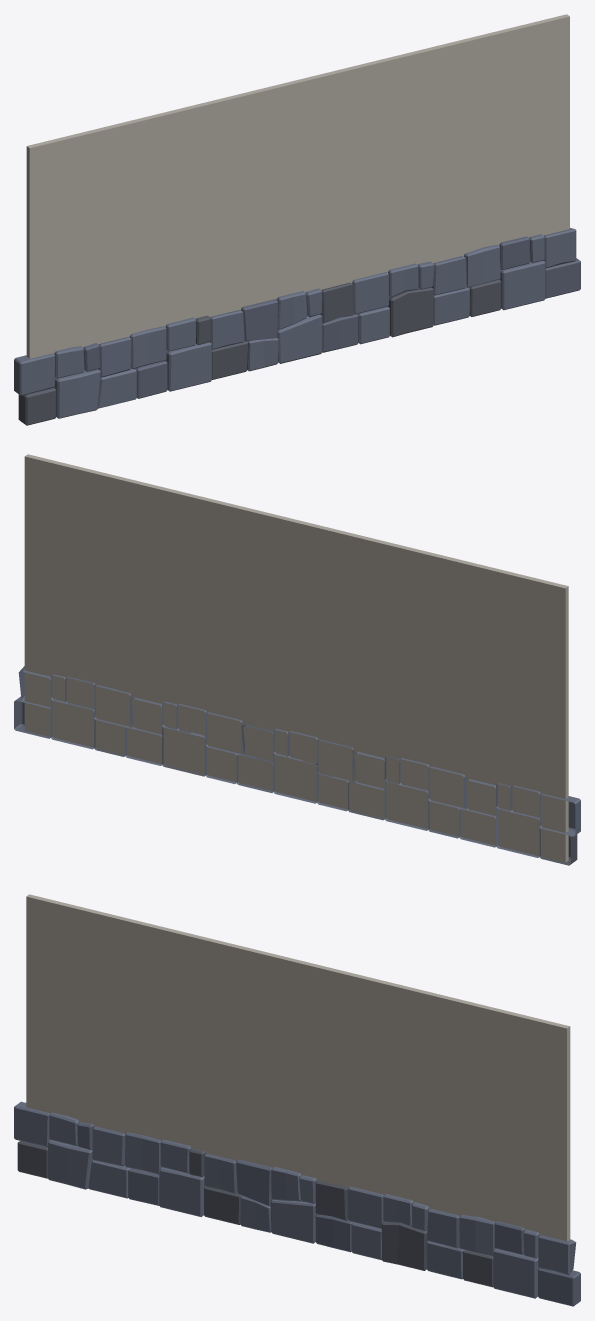
File: Wall_09.fbx
The picture shows the model from 3 angles, top to bottom: view 1: azimuth 30°, elevation 25°; view 2: azimuth 150°, elevation 25°; view 3: azimuth 330°, elevation 25°; orthographic projection.
Visible parts, largest first — view 1: Wall_09; view 2: Wall_09; view 3: Wall_09.
Part boxes in pixels (bbox=[...]): Wall_09: bbox=[14, 14, 580, 425]; Wall_09: bbox=[14, 454, 580, 865]; Wall_09: bbox=[14, 894, 580, 1306].
Size of the model in its own units: 5.96 by 2.79 by 0.1664.
